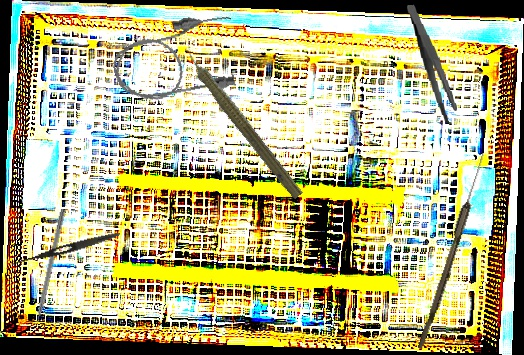Cannula: (106, 8, 245, 111)
Dressing Forceps: (406, 1, 459, 126), (8, 229, 122, 270)
Handpiece: (173, 37, 310, 202)
Pusher: (29, 208, 67, 337)
Surgical Spoon: (417, 151, 488, 351)
